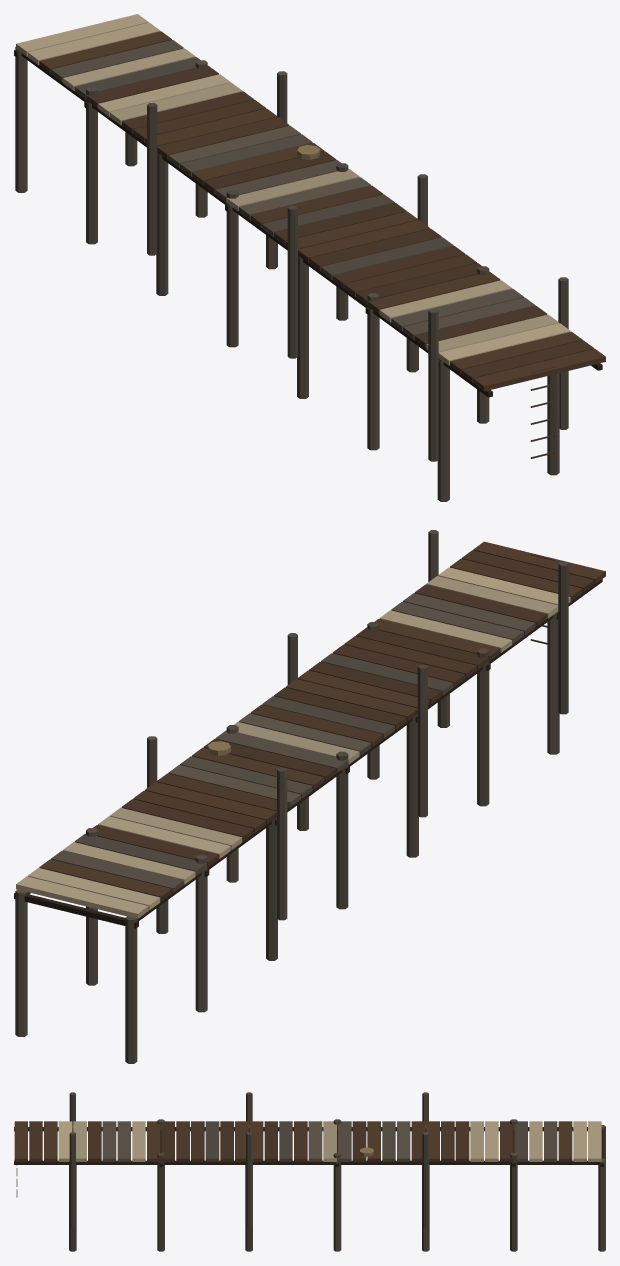
The model's file is walk_any_pier.glb.
3 renders of one model, top to bottom at view 1: azimuth 30°, elevation 25°; view 2: azimuth 150°, elevation 25°; view 3: azimuth 270°, elevation 25°, orthographic. The views are drawn at different scales.
Visible parts, largest first — view 1: walk_any_pier; view 2: walk_any_pier; view 3: walk_any_pier.
Boxes of the visible parts, x1,y1,x2,y2 form: walk_any_pier: [14, 14, 605, 501]; walk_any_pier: [14, 530, 605, 1063]; walk_any_pier: [14, 1092, 605, 1251].
Size of what is drawn, in the model's own units: 3.39 by 4.5 by 20.13.
1 material, 1 textured.
